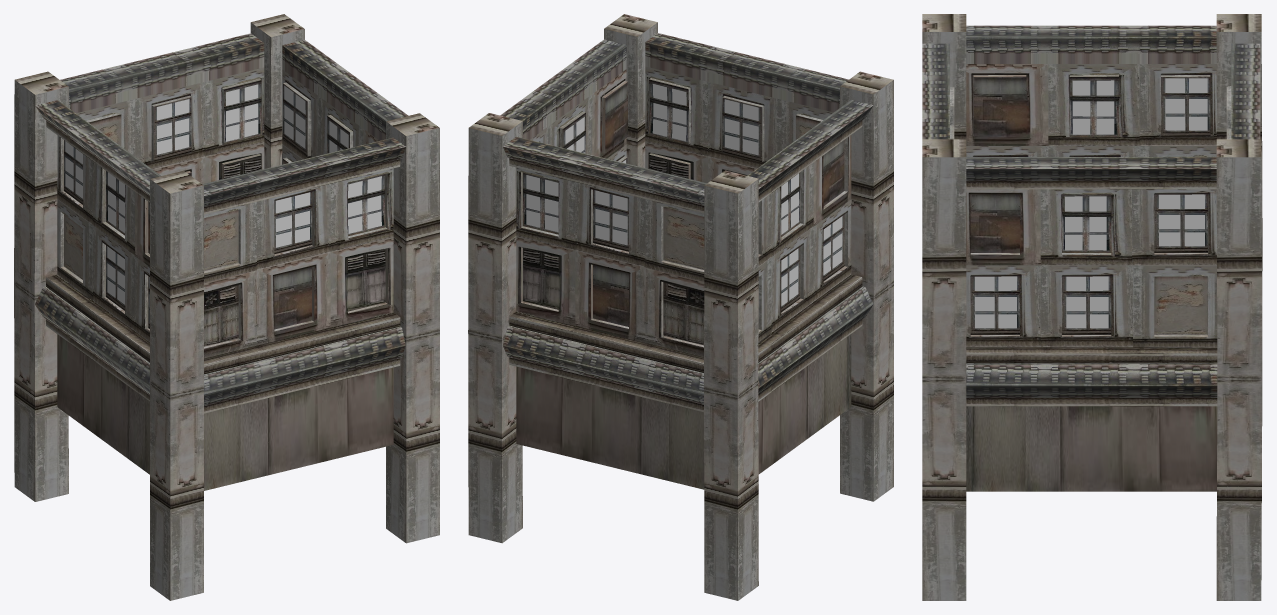
File: SquareWallBlock.fbx
3 views of the same model, side by side, from view 1: azimuth 30°, elevation 25°; view 2: azimuth 150°, elevation 25°; view 3: azimuth 270°, elevation 25° (orthographic). The views are drawn at different scales.
Visible parts, largest first — view 1: Plane.012; view 2: Plane.012; view 3: Plane.012.
Boxes of the visible parts, x1,y1,x2,y2 form: Plane.012: (14,14,439,600); Plane.012: (468,14,893,600); Plane.012: (922,14,1262,600).
Size of the model in its own units: 15 by 21.65 by 15.04.
Materials: 2 (1 with a texture image).
